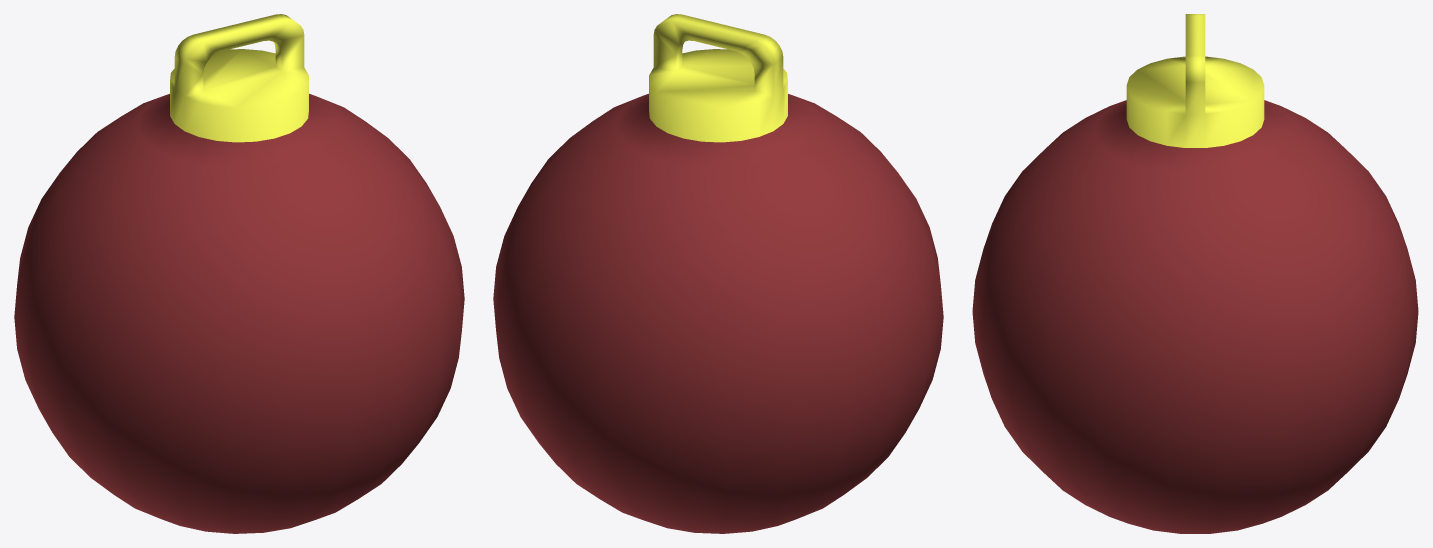
3 renders of one model, left to right at view 1: azimuth 30°, elevation 25°; view 2: azimuth 150°, elevation 25°; view 3: azimuth 270°, elevation 25°, orthographic.
Parts seen in each view (by area): view 1: Sphere.003; view 2: Sphere.003; view 3: Sphere.003.
Part boxes in pixels (left/top/right/bottom): Sphere.003: left=14, top=14, right=464, bottom=533; Sphere.003: left=493, top=14, right=943, bottom=533; Sphere.003: left=972, top=14, right=1418, bottom=533.
Size of the model in its own units: 2515 by 3005 by 2542.
